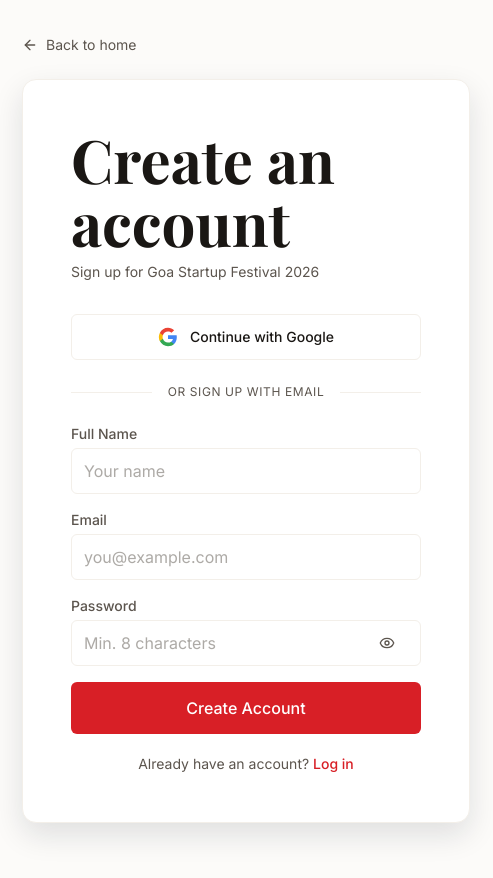
Test: Auth Pages – Invalid fields show inline errors without API calls › signup: shows errors for empty fields without calling signUp
Click the button "Create Account": [246, 708] box [71,682,421,734]
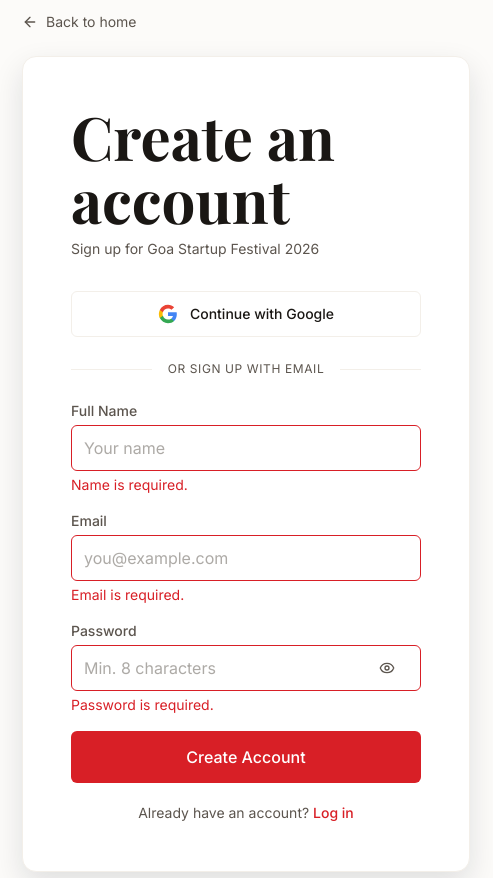
Now the text "Name is required." is shown, box [71,476,188,493]
Now the text "Email is required." is shown, box [71,586,184,603]
Now the text "Password is required." is shown, box [71,696,214,713]
